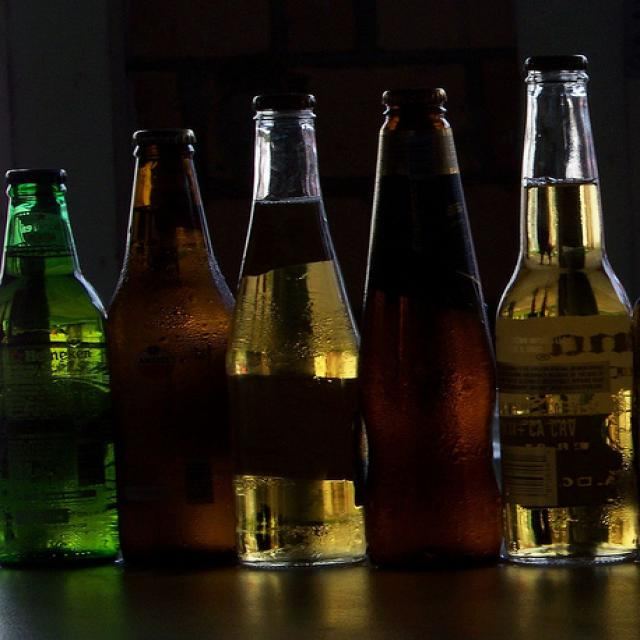Bottle: (212, 77, 385, 578), (499, 27, 640, 623), (370, 68, 508, 577), (128, 109, 258, 559), (10, 145, 122, 607)
